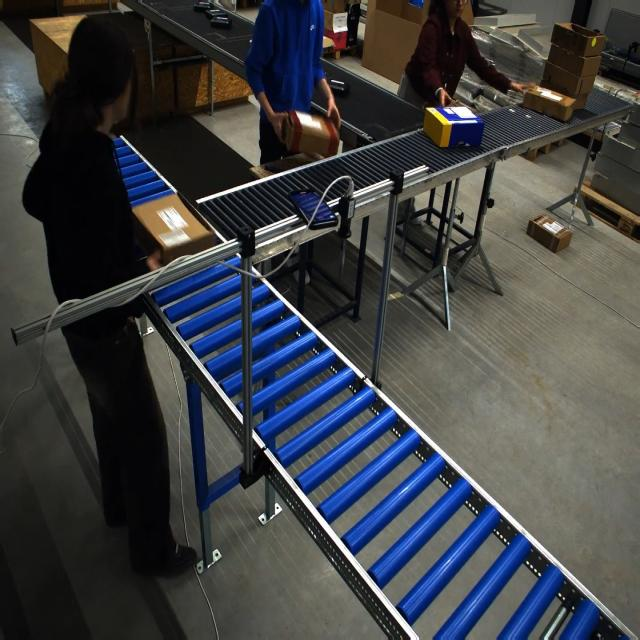box: (519, 21, 603, 122), (130, 192, 216, 267), (284, 109, 338, 160), (422, 105, 486, 148)
product: (328, 78, 350, 95), (204, 8, 227, 20), (210, 15, 230, 28), (193, 1, 214, 12)
